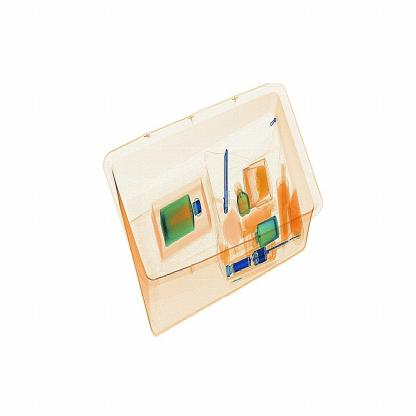pliers: (213, 140, 235, 218)
